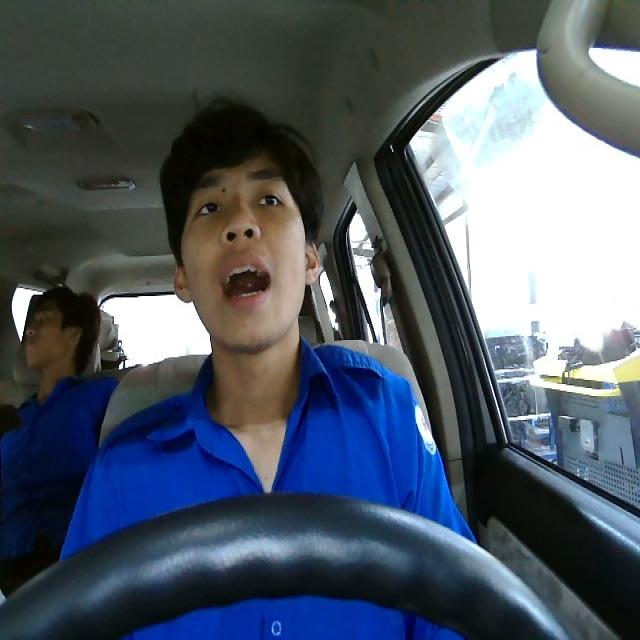yarning: (172, 154, 320, 354)
